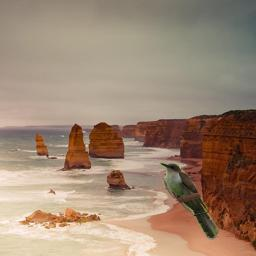Cuckoo: (159, 161, 219, 240)
